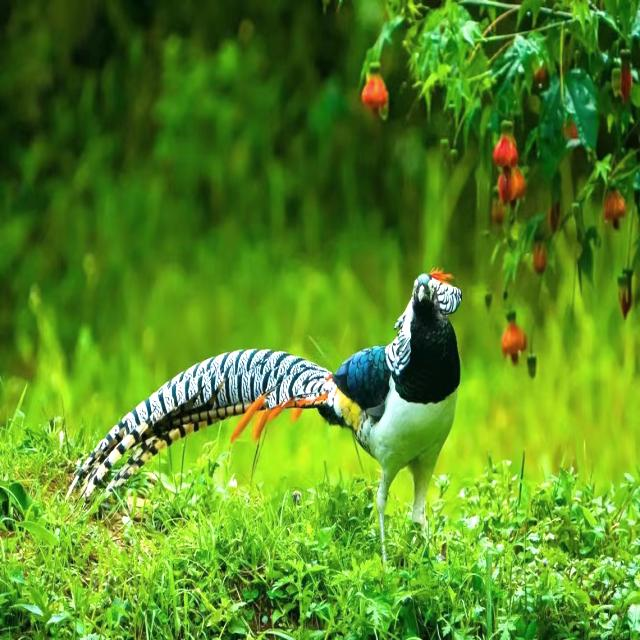Chrysolophus amherstiae: (72, 350, 343, 496)
